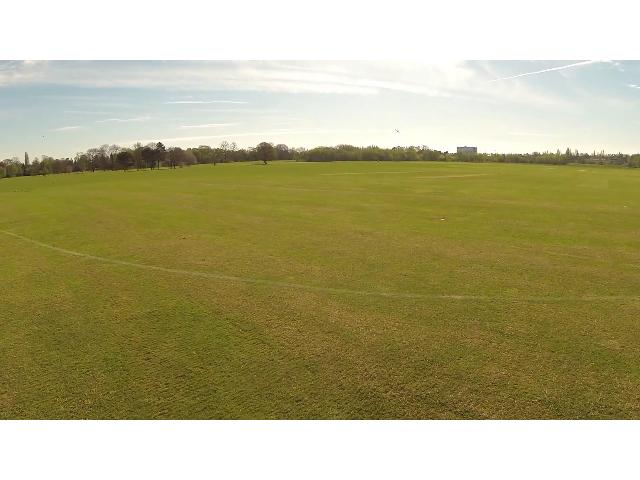Anti-Drone: (394, 122, 404, 136)
